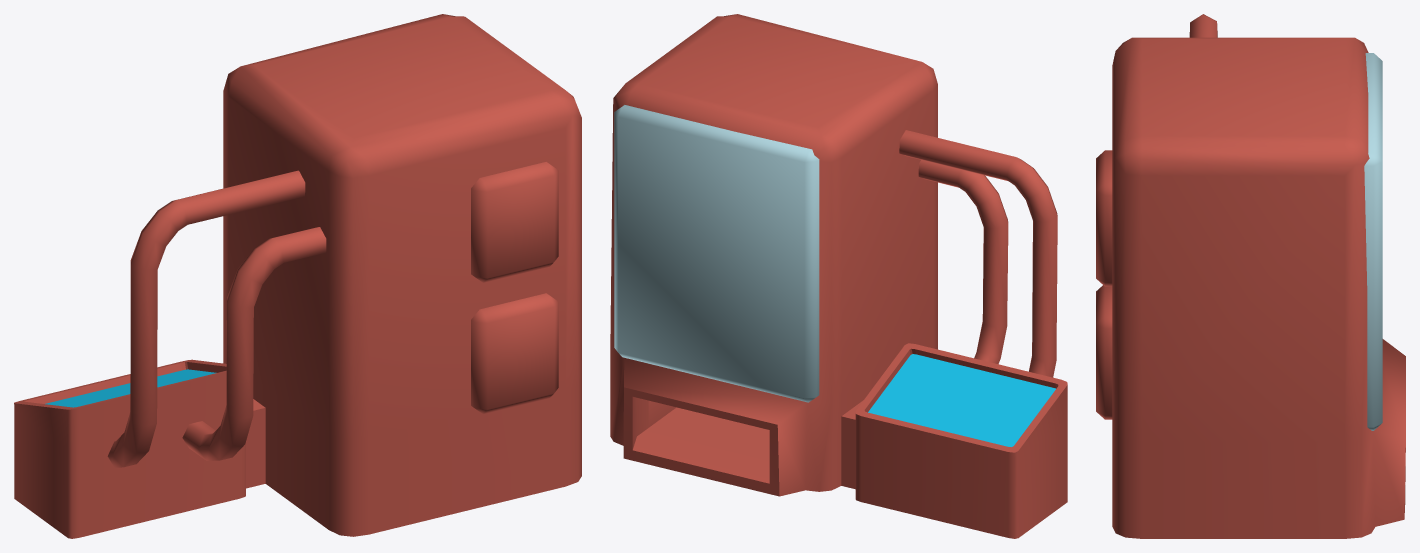
Rendered from prop_maquinaexpendedora.FBX.
3 views of the same model, side by side, from view 1: azimuth 30°, elevation 25°; view 2: azimuth 150°, elevation 25°; view 3: azimuth 270°, elevation 25° (orthographic). The views are drawn at different scales.
Visible parts, largest first — view 1: Box002; view 2: Box002; view 3: Box002.
Boxes of the visible parts, <box> form: Box002: <box>14,14,581,538</box>; Box002: <box>610,14,1067,538</box>; Box002: <box>1096,14,1405,538</box>.
Size of the model in its own units: 4.07 by 3.32 by 2.39.
